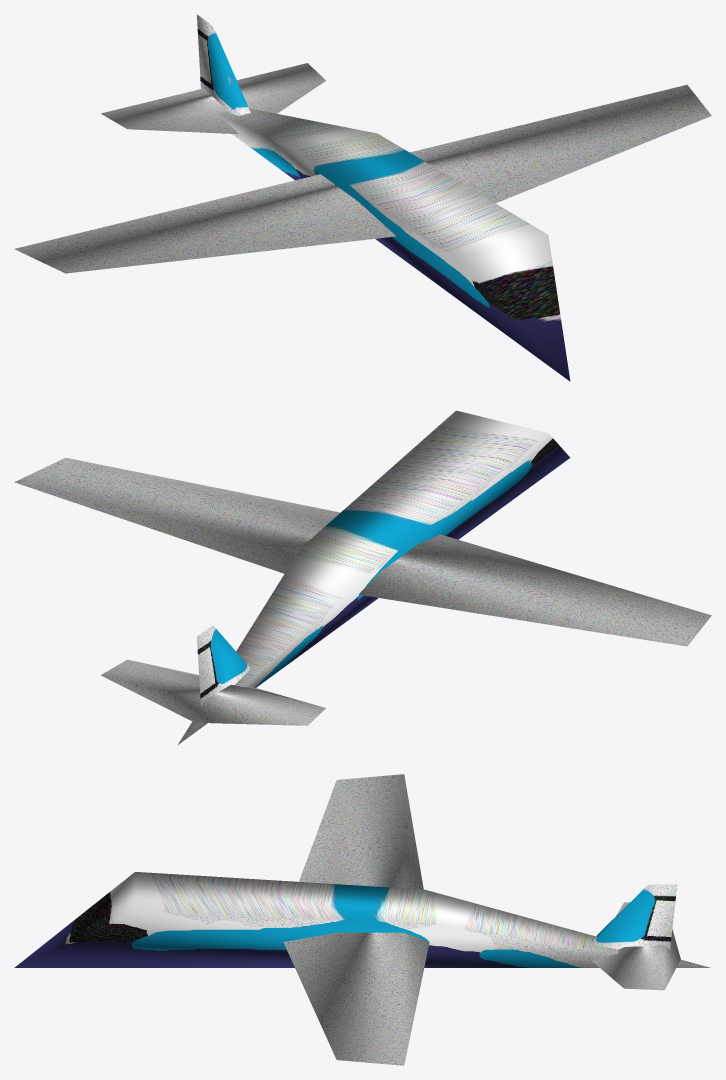
Rendered from airplane.obj.
The picture shows the model from 3 angles, top to bottom: view 1: azimuth 30°, elevation 25°; view 2: azimuth 150°, elevation 25°; view 3: azimuth 270°, elevation 25°; orthographic projection. The views are drawn at different scales.
Visible parts, largest first — view 1: Cube.002_Cube.003; view 2: Cube.002_Cube.003; view 3: Cube.002_Cube.003.
Boxes of the visible parts, bbox=[...] form: Cube.002_Cube.003: bbox=[14, 14, 711, 381]; Cube.002_Cube.003: bbox=[14, 410, 711, 744]; Cube.002_Cube.003: bbox=[14, 774, 710, 1065].
Bounding box in the file's own units: 9.1 × 1.22 × 9.2.
